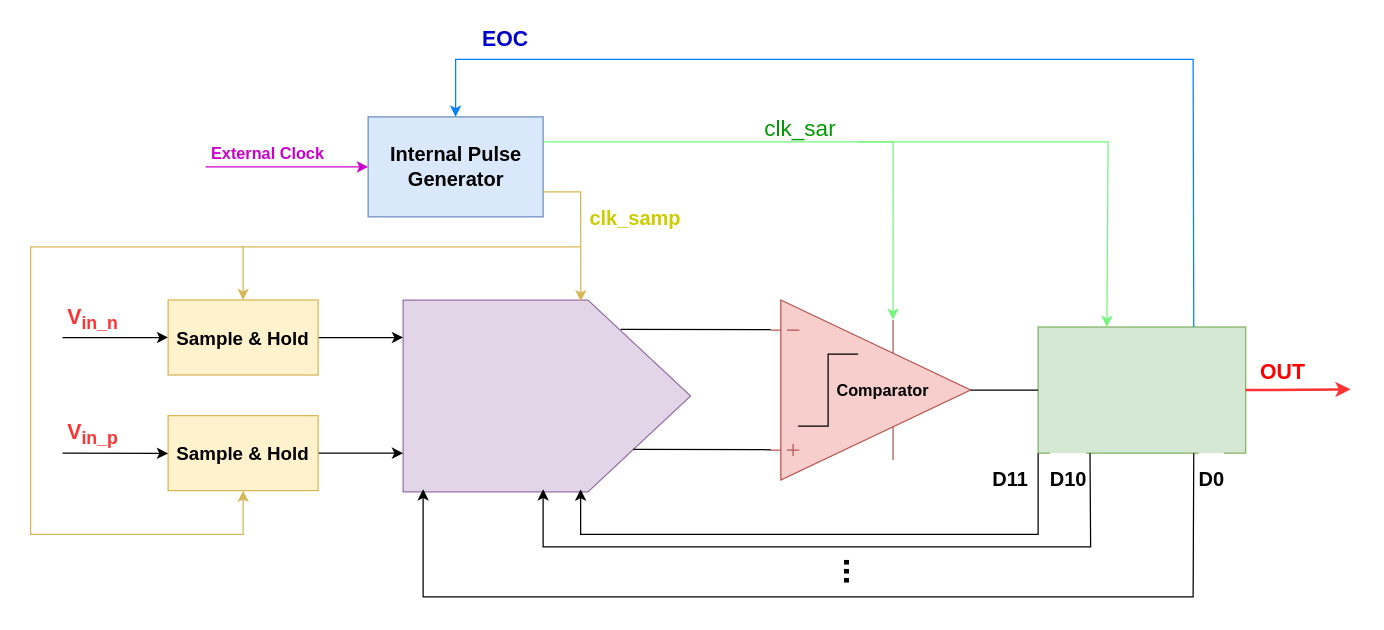
Image size: 1384x630. Some labels were removed from this diagram. The shapes that lost their labels are listed below. From the top down, each one's box as (x1, y1, x2, y2) in pixels, then its label:
(402, 299, 691, 492): 12 bit DAC
(1037, 326, 1246, 453): SAR Logic
